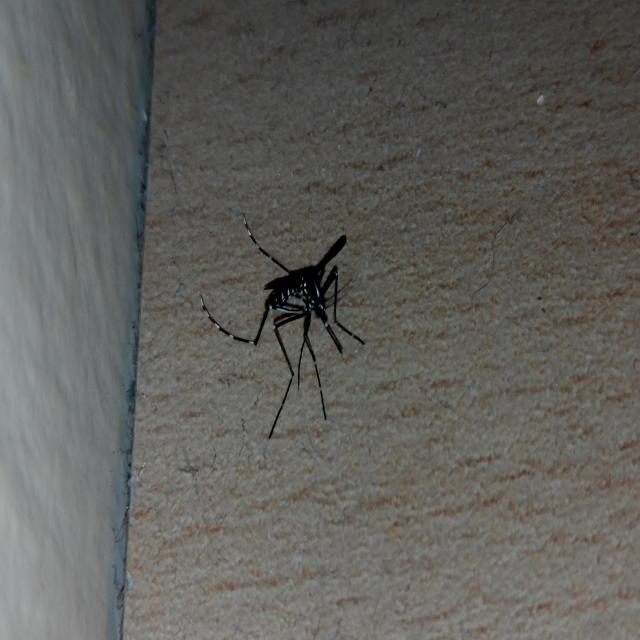albopictus: (198, 199, 370, 450)
